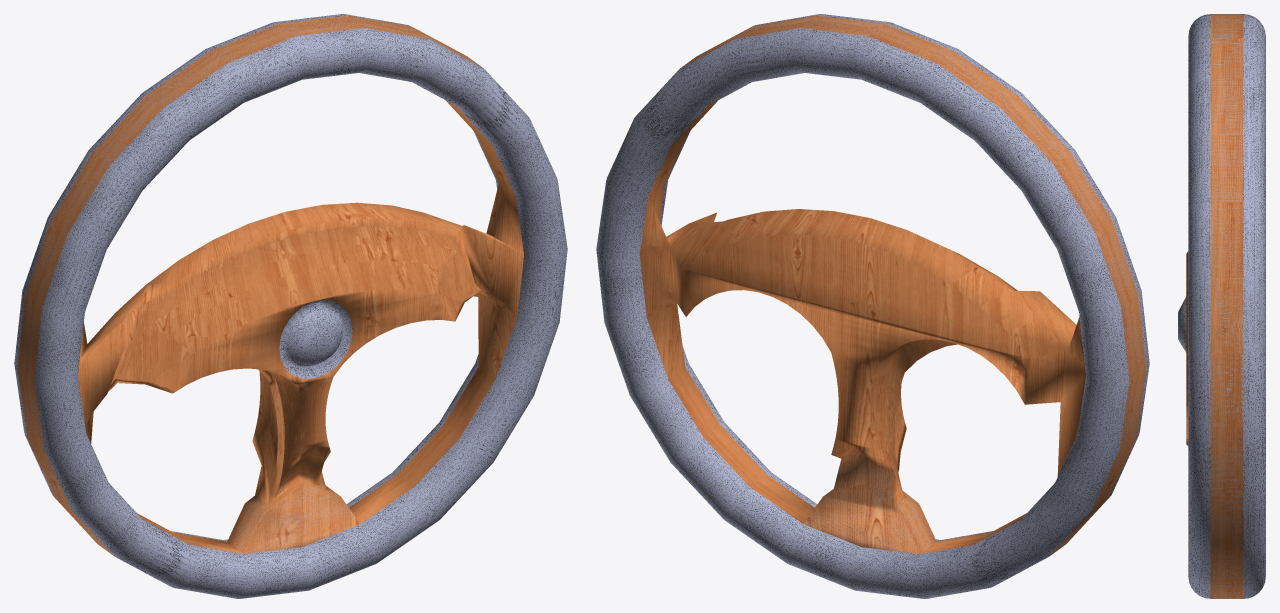
File: Gorgeous_High_End_Sports_Car_Wheel.fbx
3 renders of one model, left to right at view 1: azimuth 30°, elevation 25°; view 2: azimuth 150°, elevation 25°; view 3: azimuth 270°, elevation 25°, orthographic. The views are drawn at different scales.
Visible parts, largest first — view 1: Model; view 2: Model; view 3: Model.
Boxes of the visible parts, box(x1,y1,x2,y2) form: Model: box(14, 14, 567, 598); Model: box(596, 14, 1149, 598); Model: box(1178, 14, 1265, 598).
Size of the model in its own units: 0.4572 by 0.4572 by 0.0682.
